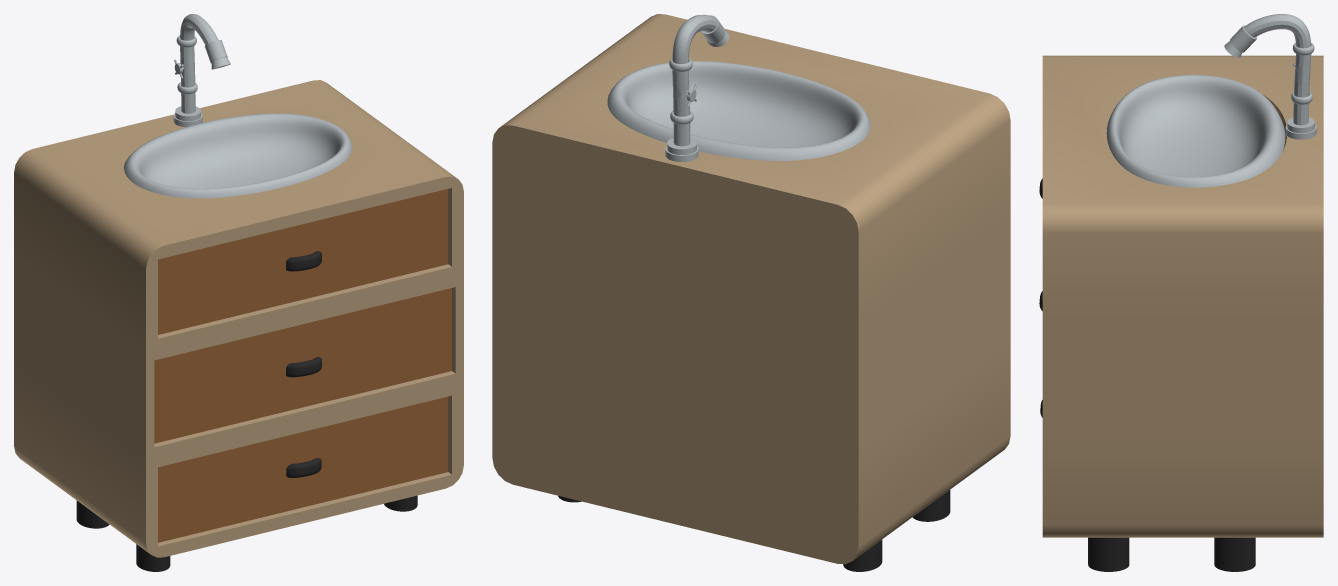
File: under-sink-storage.glb
3 views of the same model, side by side, from view 1: azimuth 30°, elevation 25°; view 2: azimuth 150°, elevation 25°; view 3: azimuth 270°, elevation 25° (orthographic). The views are drawn at different scales.
Visible parts, largest first — view 1: Cube, Cube.002, Cube.003, Cube.001, Cube.004, NurbsPath.036, Cylinder.122; view 2: Cube, Cube.004, NurbsPath.036, Cylinder.119, Cylinder.122; view 3: Cube, Cube.004, NurbsPath.036, Cylinder.121, Cylinder.120, Cylinder.125.
Part boxes in pixels (<box>): Cube: <box>14,80,463,557</box>; Cube.002: <box>154,288,451,443</box>; Cube.003: <box>158,396,448,542</box>; Cube.001: <box>158,189,448,334</box>; Cube.004: <box>124,113,352,198</box>; NurbsPath.036: <box>180,14,218,113</box>; Cylinder.122: <box>136,544,170,571</box>; Cube: <box>492,14,1010,564</box>; Cube.004: <box>607,61,870,160</box>; NurbsPath.036: <box>672,14,717,146</box>; Cylinder.119: <box>843,539,882,571</box>; Cylinder.122: <box>912,490,950,521</box>; Cube: <box>1042,55,1323,537</box>; Cube.004: <box>1106,75,1285,187</box>; NurbsPath.036: <box>1244,14,1311,125</box>; Cylinder.121: <box>1088,537,1129,571</box>; Cylinder.120: <box>1214,537,1255,571</box>; Cylinder.125: <box>1230,25,1257,52</box>.
Bounding box in the file's own units: 5.54 × 7.62 × 4.03.
